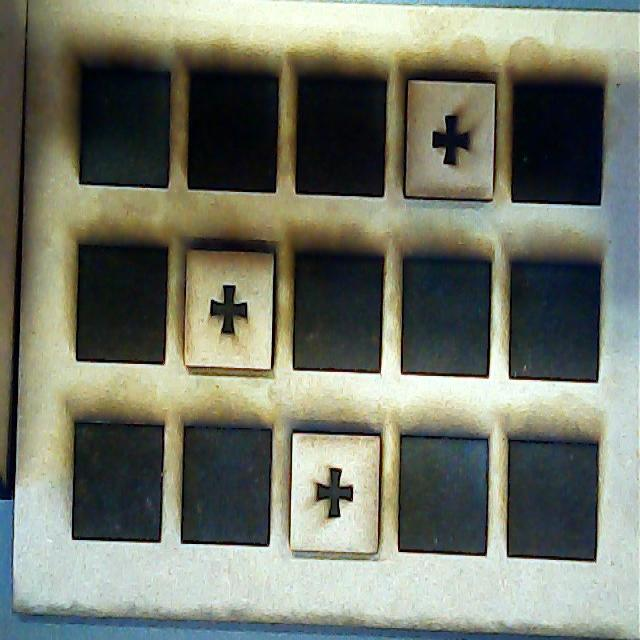temple: (288, 426, 381, 553), (185, 242, 274, 374), (409, 78, 495, 201)
